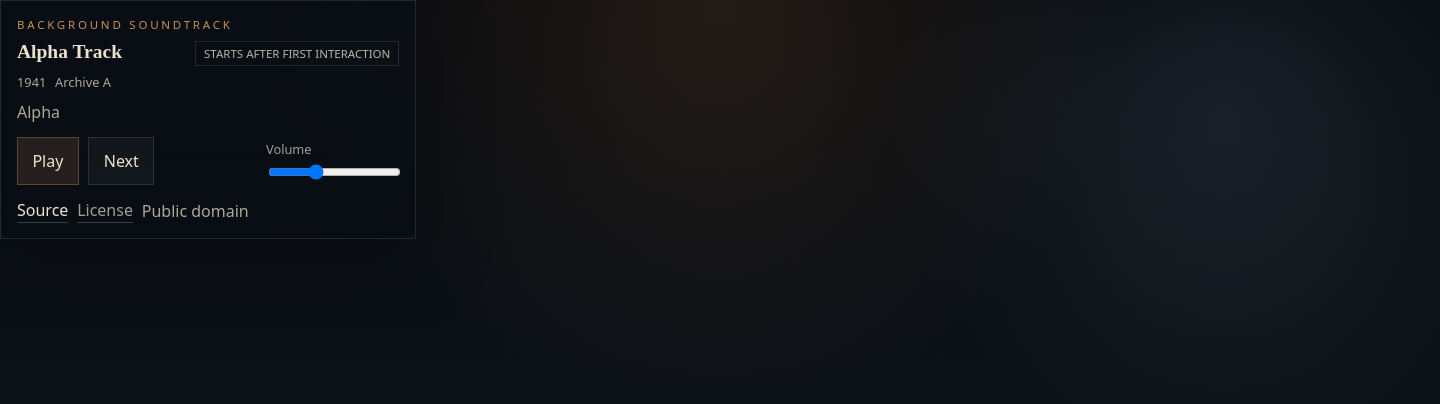
Test case: BackgroundMusicPlayer › does not auto-resume after the listener manually pauses playback
The width and height of the screenshot is (1440, 404).
What coordinates should you click on to do the following:
click the button with test id "background-player-toggle"
I would click on:
 (48, 161)
Its box is 17,137 -> 79,184.
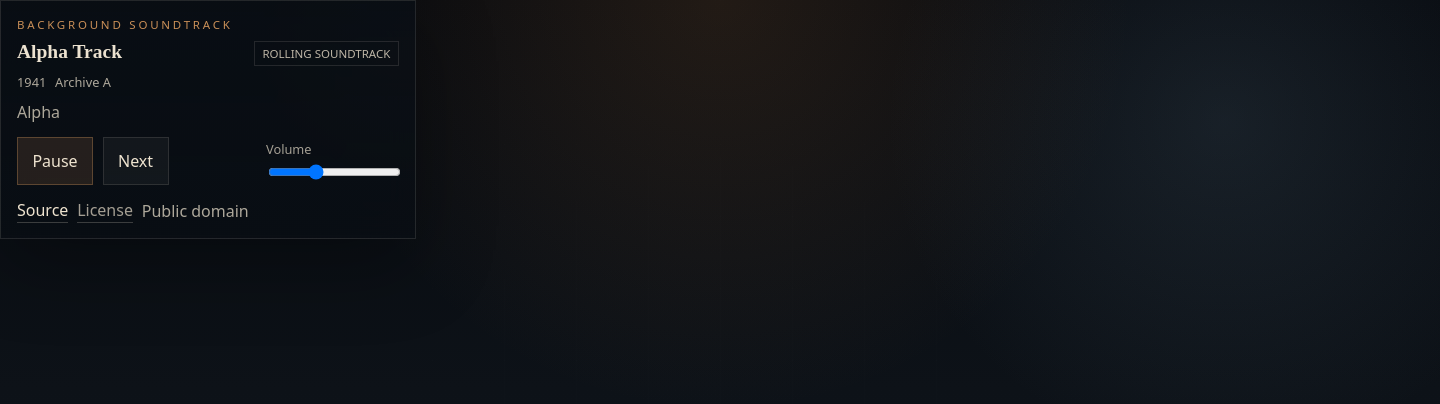
What coordinates should you click on to do the following:
click the button with test id "background-player-toggle"
I would click on:
 (55, 161)
Its box is 17,137 -> 93,184.
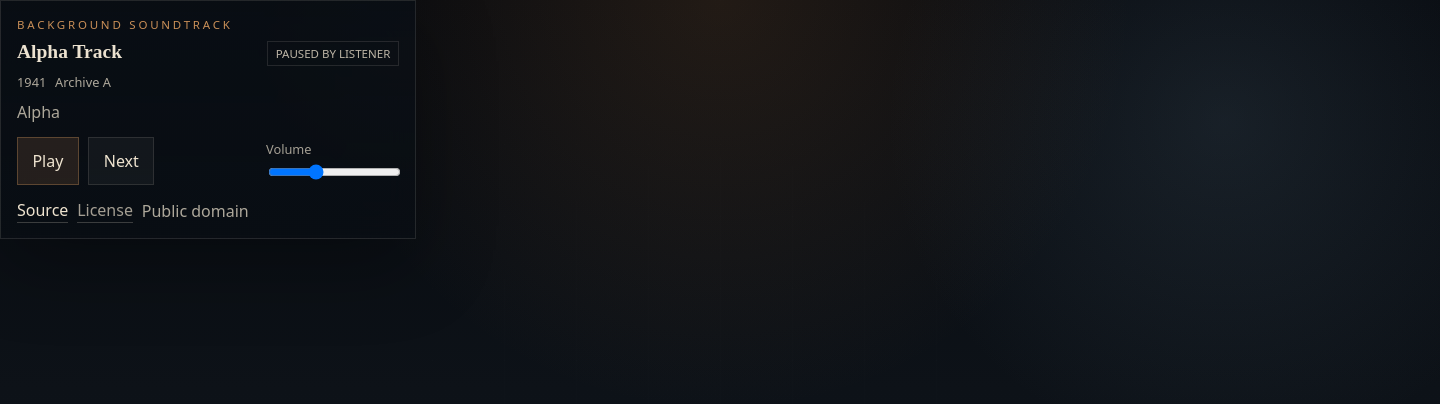
Now the text with test id "background-player-status" reads "Paused by listener", box 276,46 -> 390,61
